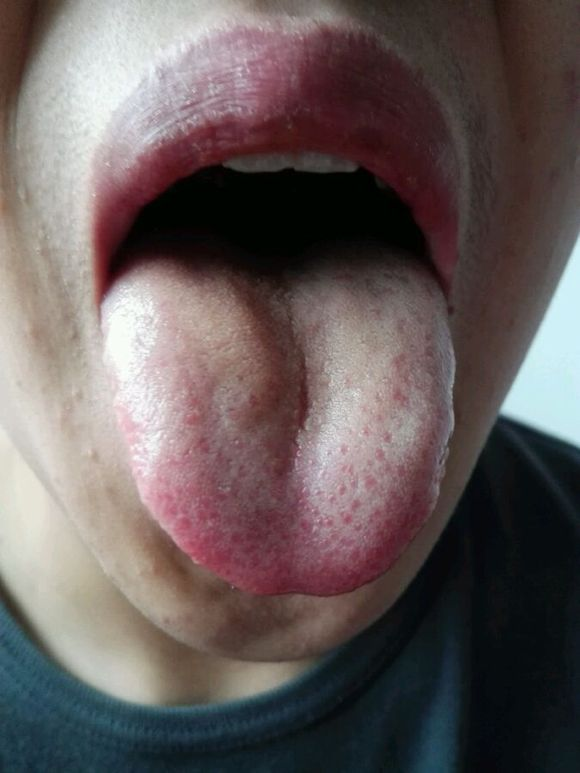baitaishe: (107, 225, 455, 598)
hongdianshe: (340, 509, 353, 527)
liewenshe: (291, 343, 314, 433)
